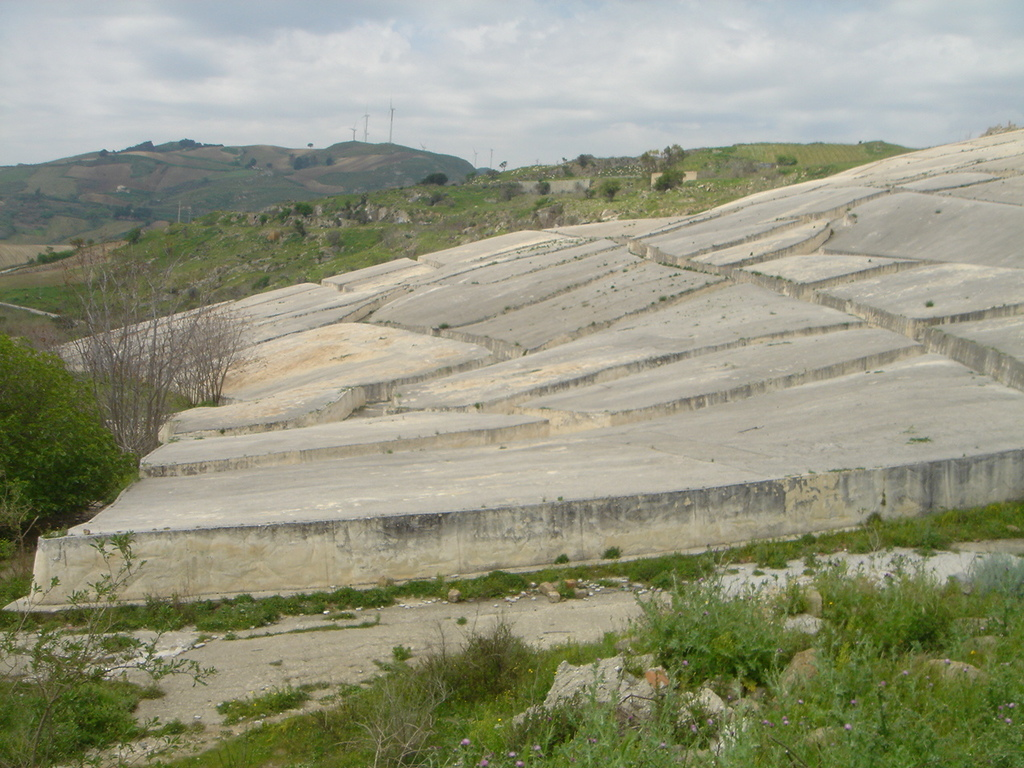Tree: (31, 238, 253, 468), (0, 334, 125, 522)
